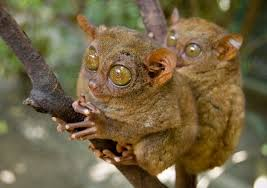tarsier: (64, 15, 197, 174), (167, 7, 247, 178)
